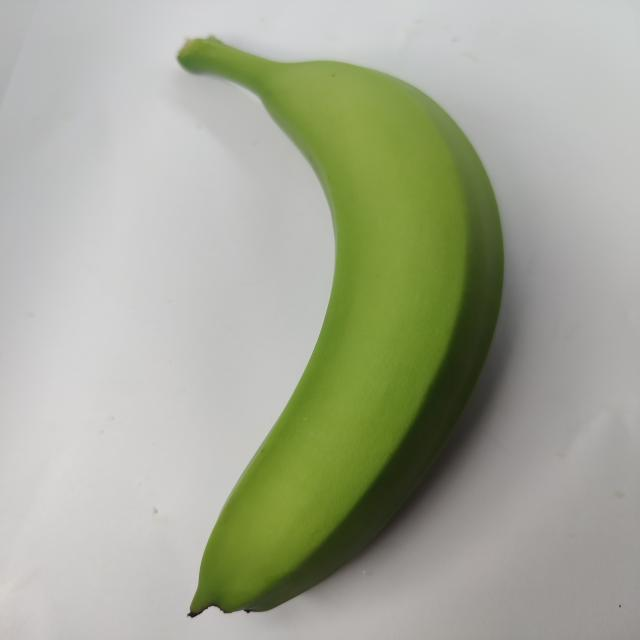raw: (115, 29, 518, 619)
